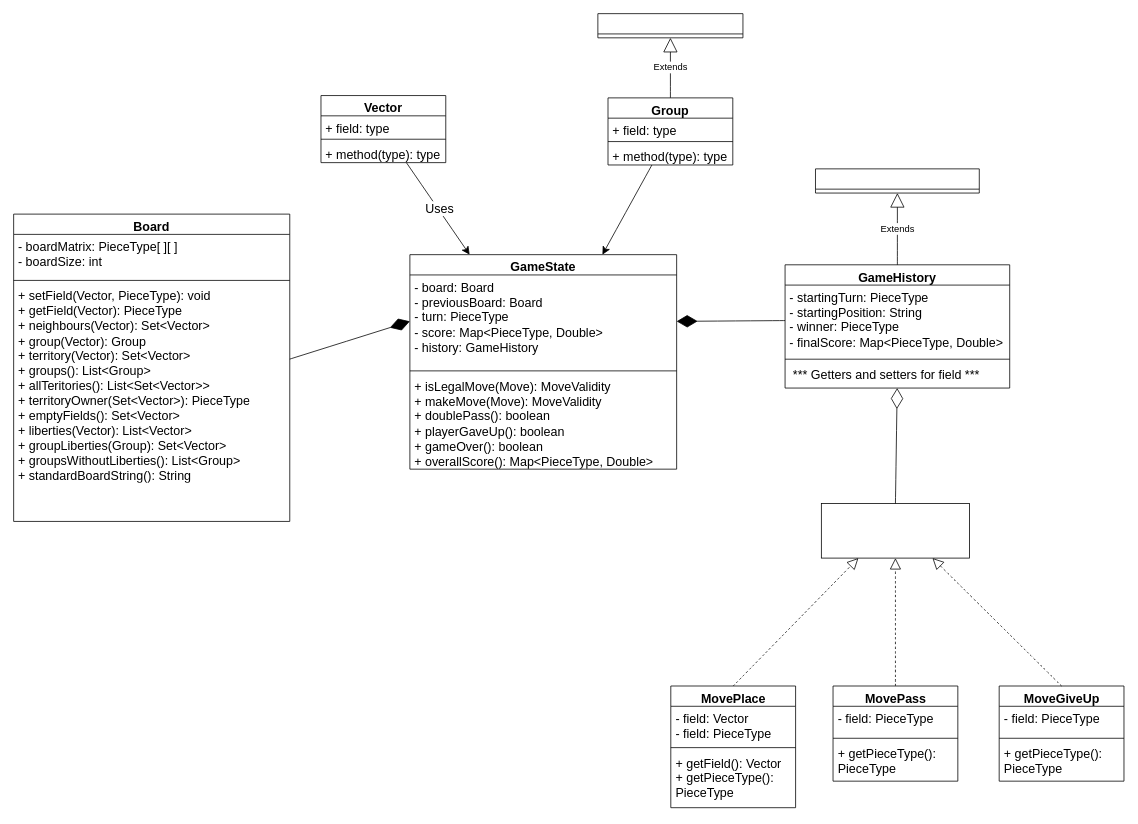
This 1138x824 diagram has some shape labels left out. The shapes that lost their labels are listed below. From the top down, each one's centre as x and y in pixels, then its label:
[670,25]: HashSet<Vector>
[897,180]: ArrayList<Move>
[895,530]: <<Interface>> Move + getPieceType(): PieceType
